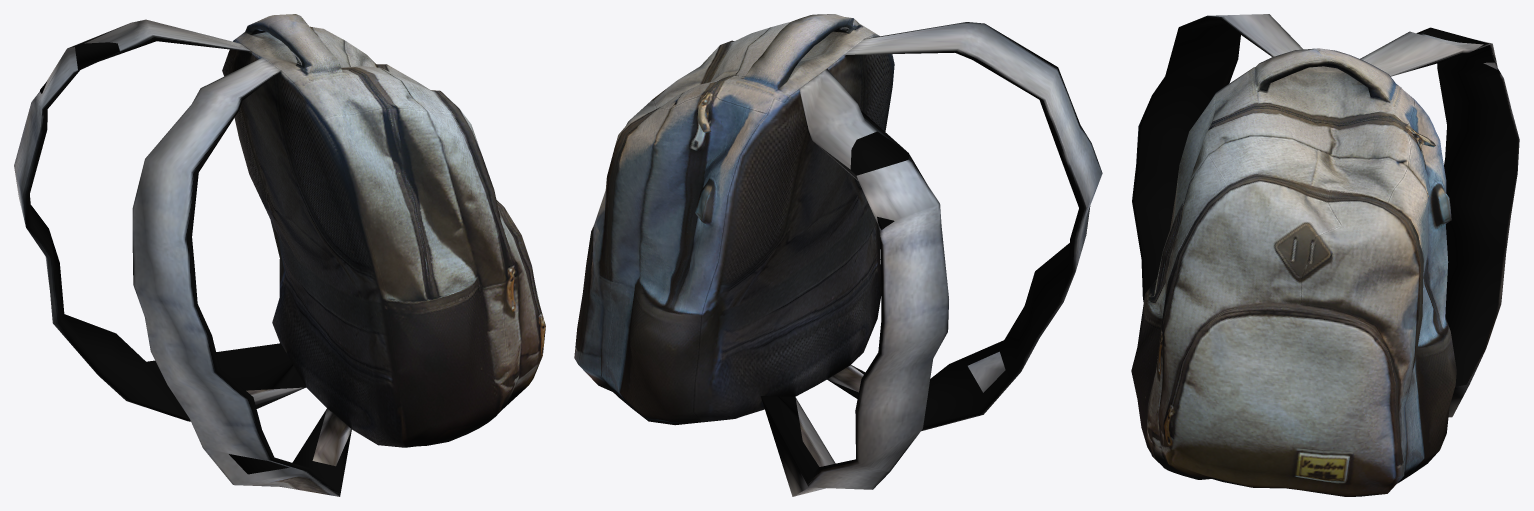
3 views of the same model, side by side, from view 1: azimuth 30°, elevation 25°; view 2: azimuth 150°, elevation 25°; view 3: azimuth 270°, elevation 25° (orthographic). The views are drawn at different scales.
Visible parts, largest first — view 1: backback; view 2: backback; view 3: backback.
Boxes of the visible parts, box(x1,y1,x2,y2) form: backback: box(14, 14, 545, 496); backback: box(574, 14, 1102, 496); backback: box(1131, 14, 1519, 496).
Bounding box in the file's own units: 0.5232 × 0.5065 × 0.4337.
1 material, 1 textured.
